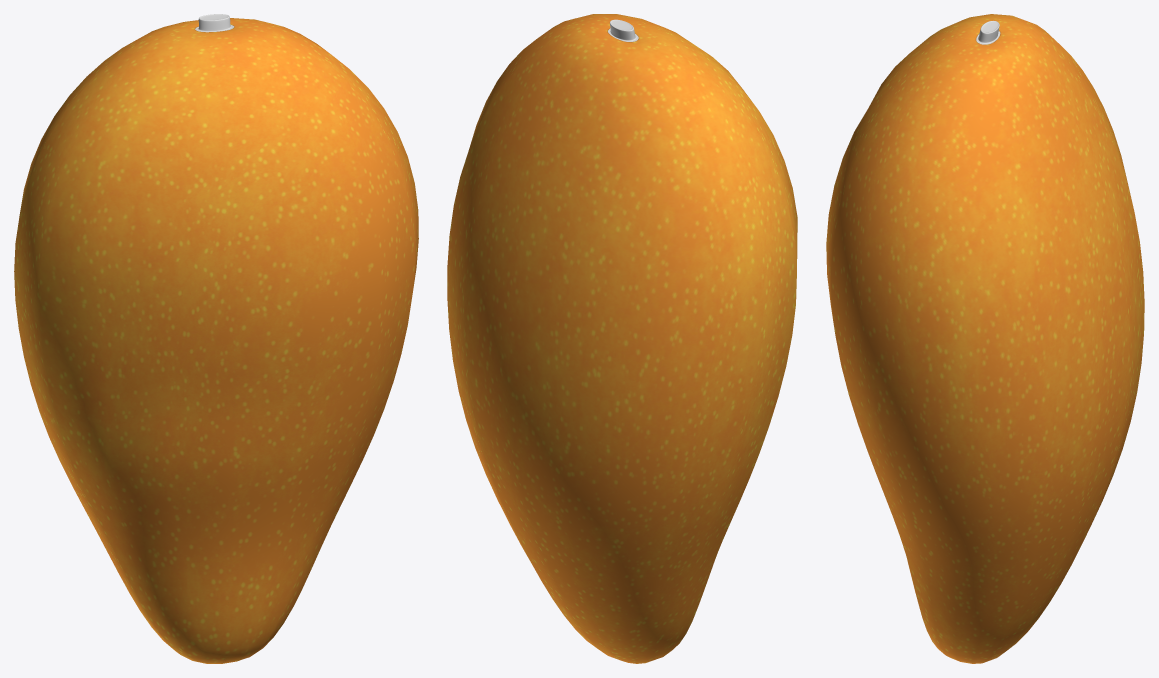
Rendered from mango.glb.
3 renders of one model, left to right at view 1: azimuth 30°, elevation 25°; view 2: azimuth 150°, elevation 25°; view 3: azimuth 270°, elevation 25°, orthographic.
Visible parts, largest first — view 1: mango; view 2: mango; view 3: mango.
Boxes of the visible parts, x1,y1,x2,y2 form: mango: [14, 14, 418, 663]; mango: [447, 14, 797, 663]; mango: [826, 14, 1144, 663].
Size of the model in its own units: 1.46 by 2.58 by 1.18.
Materials: 2 (1 with a texture image).
